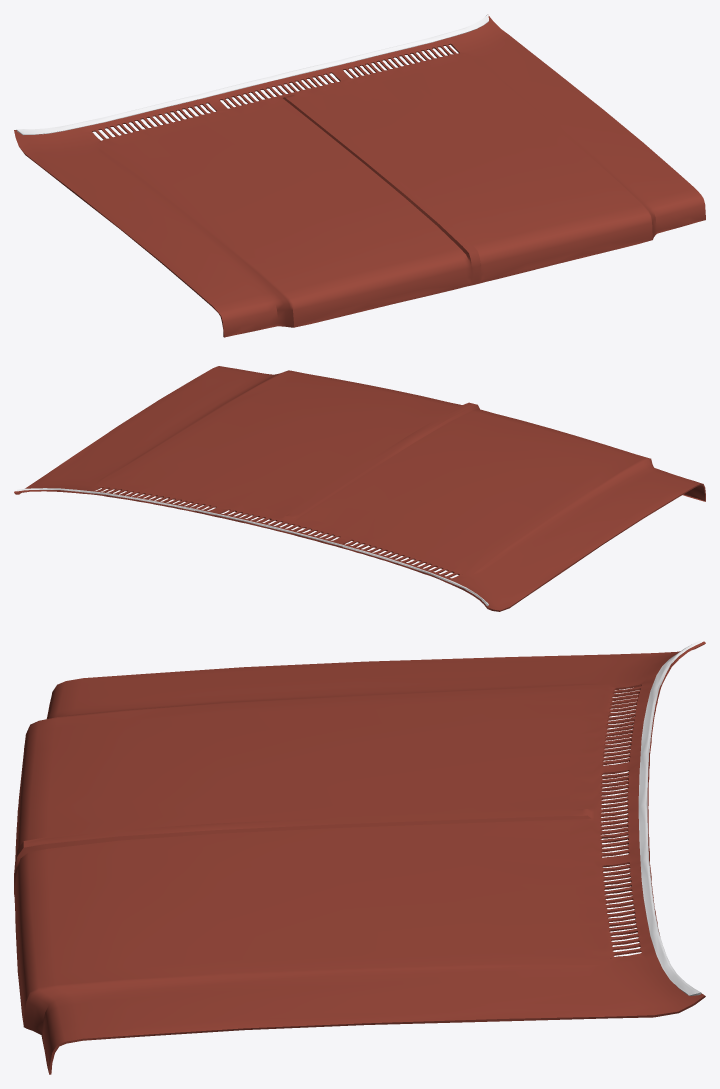
The model's file is k5-body-hood.glb.
3 renders of one model, top to bottom at view 1: azimuth 30°, elevation 25°; view 2: azimuth 150°, elevation 25°; view 3: azimuth 270°, elevation 25°, orthographic. The views are drawn at different scales.
Parts seen in each view (by area): view 1: body_hood; view 2: body_hood; view 3: body_hood.
Part boxes in pixels (box(x1,y1,x2,y2)): body_hood: box(14, 14, 705, 337); body_hood: box(14, 366, 705, 611); body_hood: box(14, 640, 705, 1074).
Size of the model in its own units: 1.75 by 0.2052 by 1.41.
